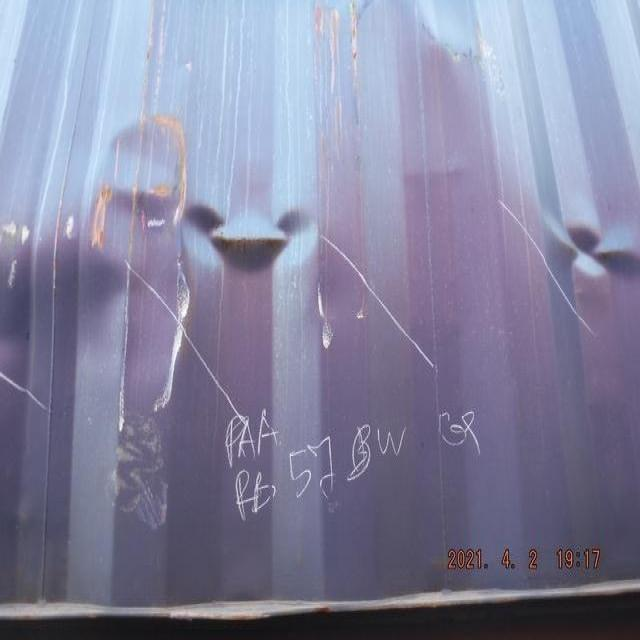dent: (1, 108, 326, 414), (500, 200, 640, 308)
